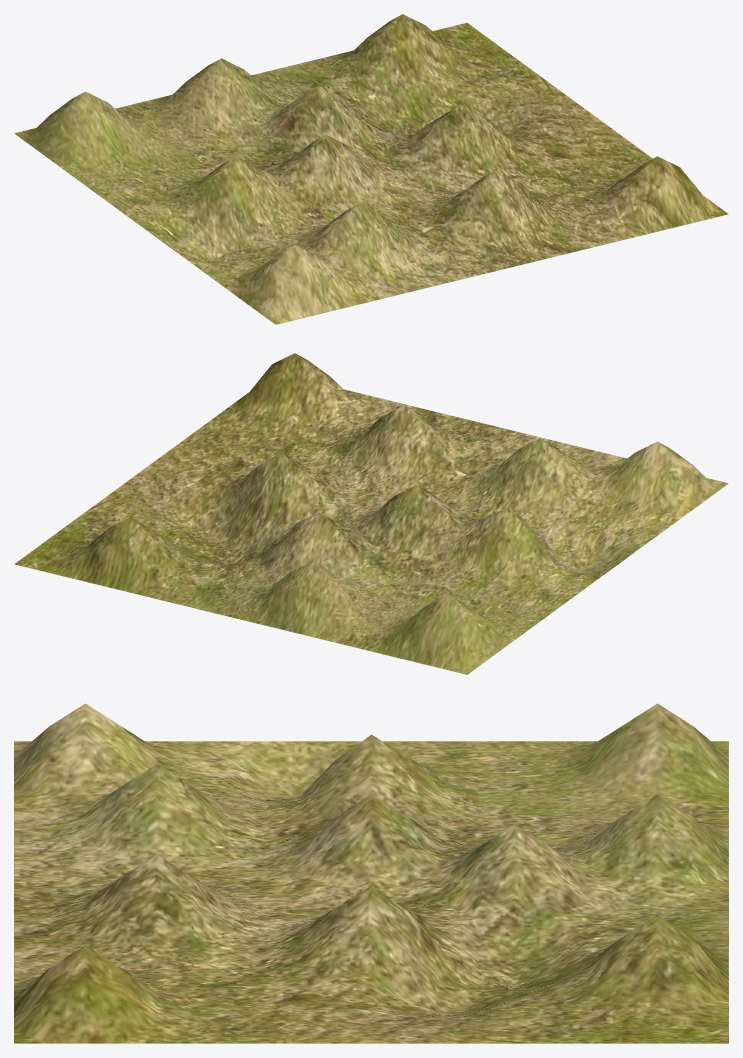
The model's file is Ground.fbx.
The picture shows the model from 3 angles, top to bottom: view 1: azimuth 30°, elevation 25°; view 2: azimuth 150°, elevation 25°; view 3: azimuth 270°, elevation 25°; orthographic projection. The views are drawn at different scales.
Visible parts, largest first — view 1: pPlane1; view 2: pPlane1; view 3: pPlane1.
Part boxes in pixels (left/top/right/bottom): pPlane1: left=14, top=14, right=728, bottom=324; pPlane1: left=14, top=353, right=728, bottom=674; pPlane1: left=14, top=703, right=728, bottom=1043.
Size of the model in its own units: 50 by 7.86 by 50.
1 material, 1 textured.
